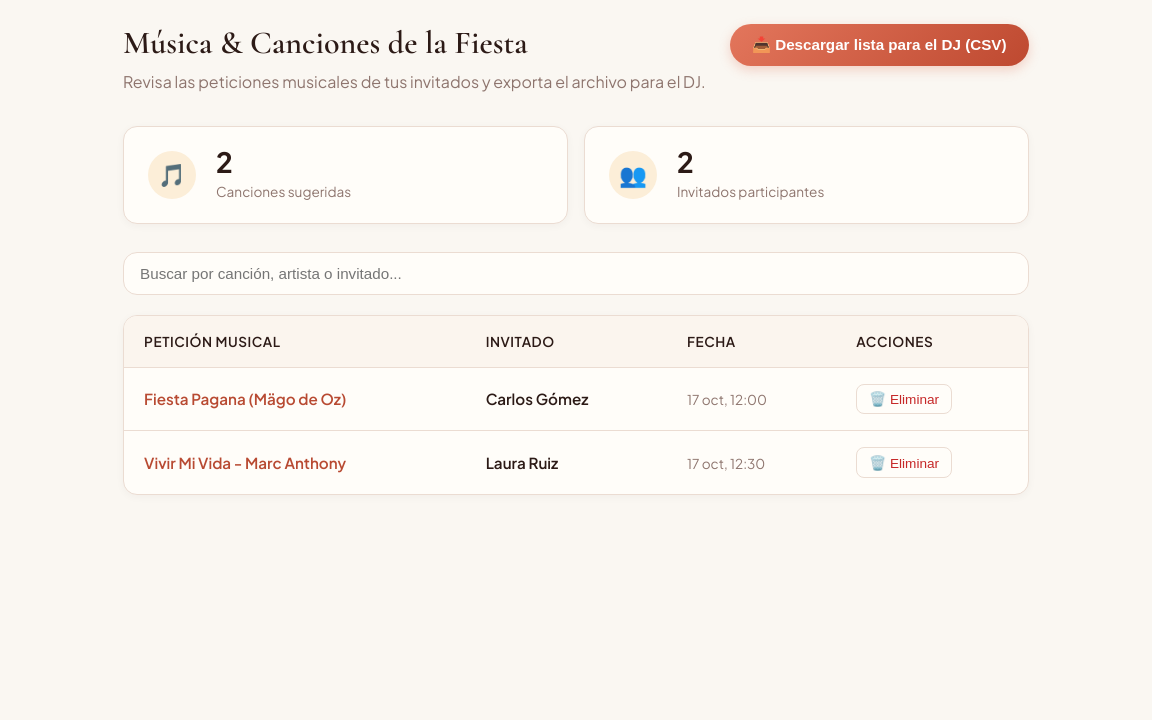
Feature: Gestión y Exportación de Canciones (AdminSongSuggestionsPage) › permite eliminar una canción tras confirmar en el modal de confirmación
The width and height of the screenshot is (1152, 720).
Expected: the text "Fiesta Pagana (Mägo de Oz)" is shown, [144,389,346,408]
Click the button "🗑️ Eliminar" in the row of "Fiesta Pagana (Mägo de Oz)" at (904, 399), box [856,384,952,414]
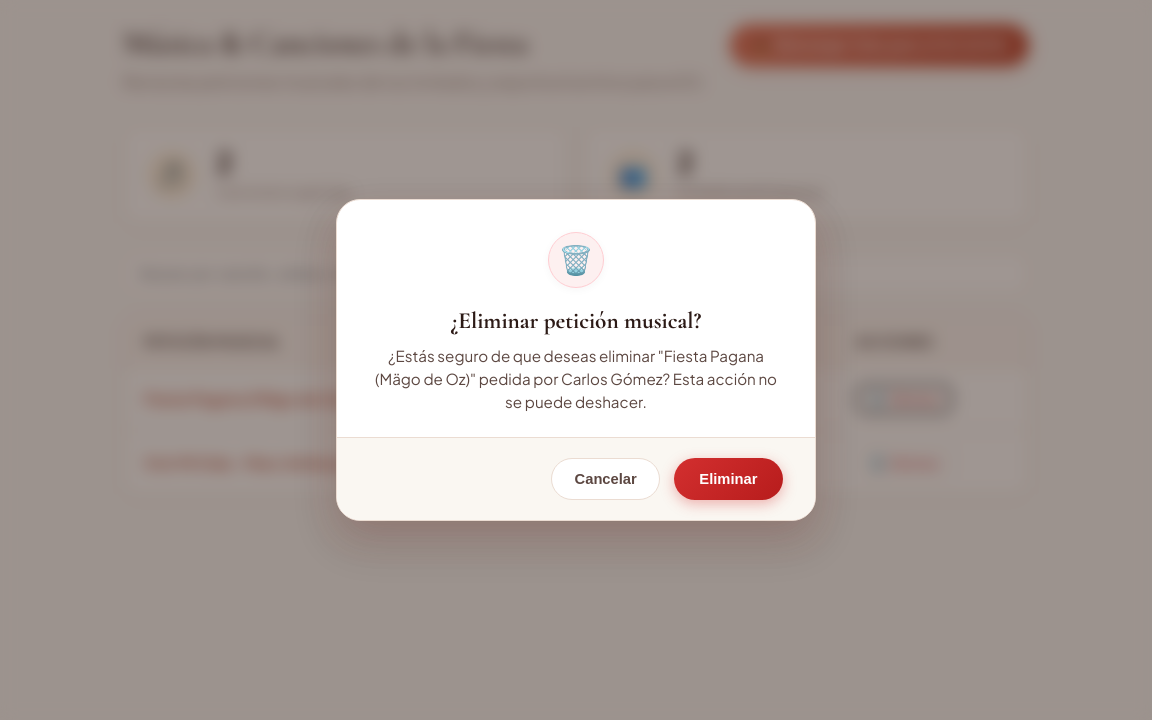
Expected: the heading "¿Eliminar petición musical?" is shown, [451,308,701,335]
Expected: the text "¿Estás seguro de que deseas eliminar \"Fiesta Pagana (Mägo de Oz)\" pedida por Carlos Gómez?" is shown, [375,346,777,411]
// Confirmar en el modal
Click the button "Eliminar" at (728, 479), box [674,458,783,500]
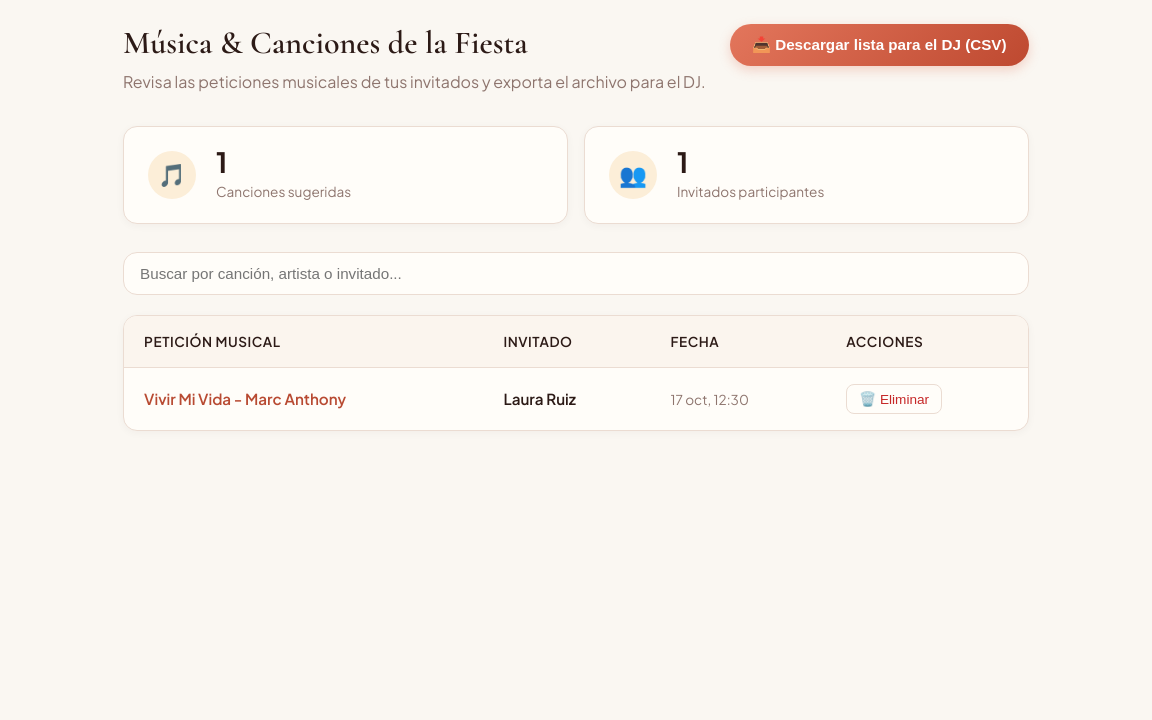
Expected: the text "Fiesta Pagana (Mägo de Oz)" is gone
